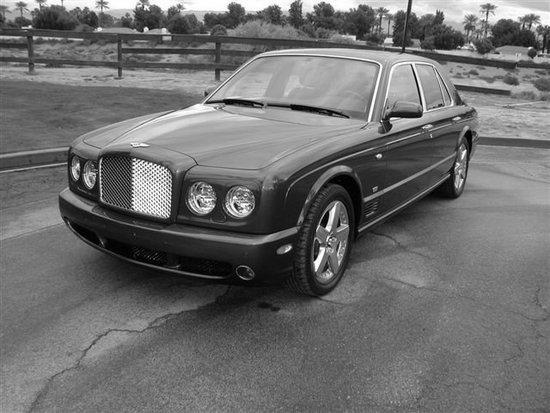car: (61, 48, 478, 300)
